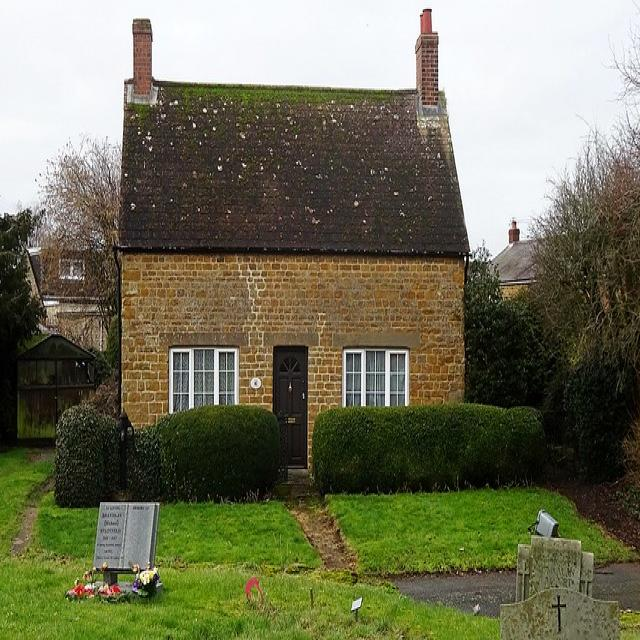Normal_building: (114, 70, 472, 468)
